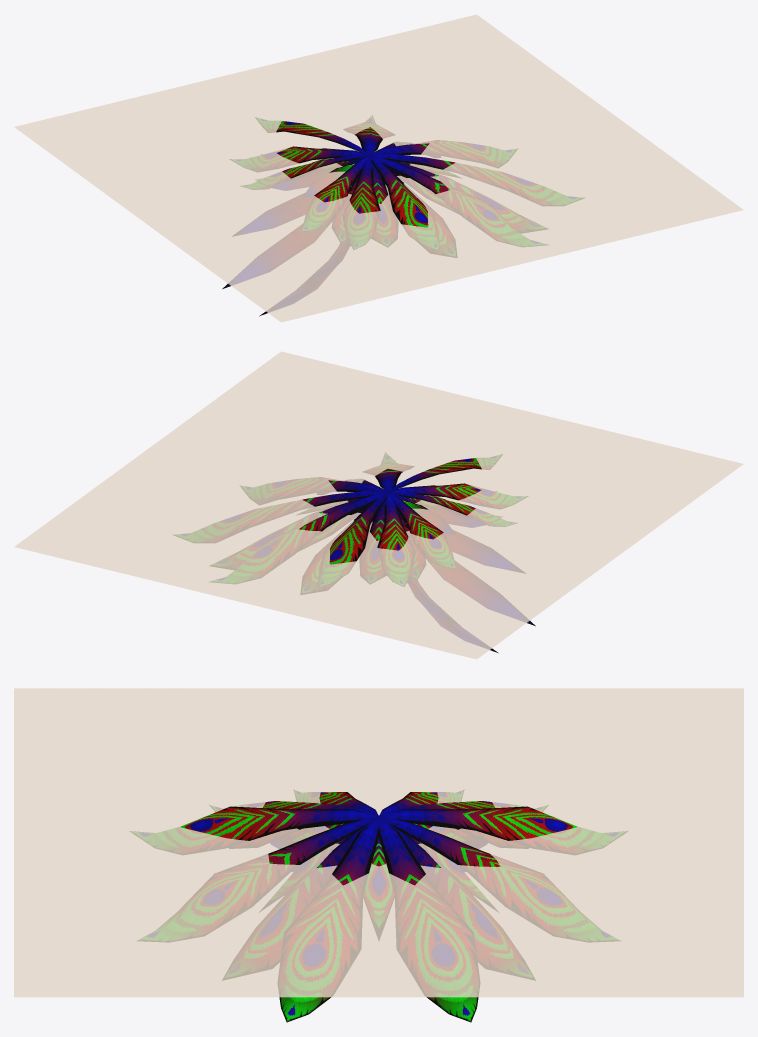
3 renders of one model, top to bottom at view 1: azimuth 30°, elevation 25°; view 2: azimuth 150°, elevation 25°; view 3: azimuth 270°, elevation 25°, orthographic. The views are drawn at different scales.
Parts seen in each view (by area): view 1: Plane, "Editable Poly"; view 2: Plane, "Editable Poly"; view 3: Plane, "Editable Poly".
Boxes of the visible parts, box(x1,y1,x2,y2) form: Plane: box(14, 14, 743, 322); "Editable Poly": box(222, 116, 583, 316); Plane: box(14, 351, 743, 659); "Editable Poly": box(174, 453, 535, 653); Plane: box(14, 688, 743, 997); "Editable Poly": box(130, 790, 627, 1022).
Size of the model in its own units: 3.34 by 0.8128 by 3.34.
